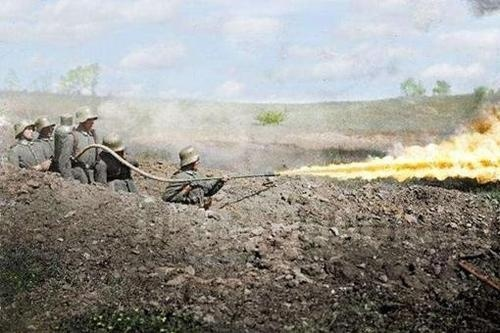fire: (271, 103, 499, 187)
